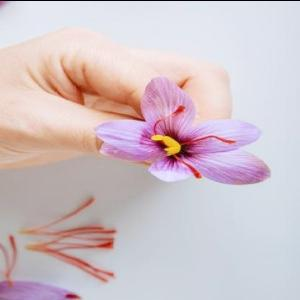Saffron: (92, 76, 272, 182)
